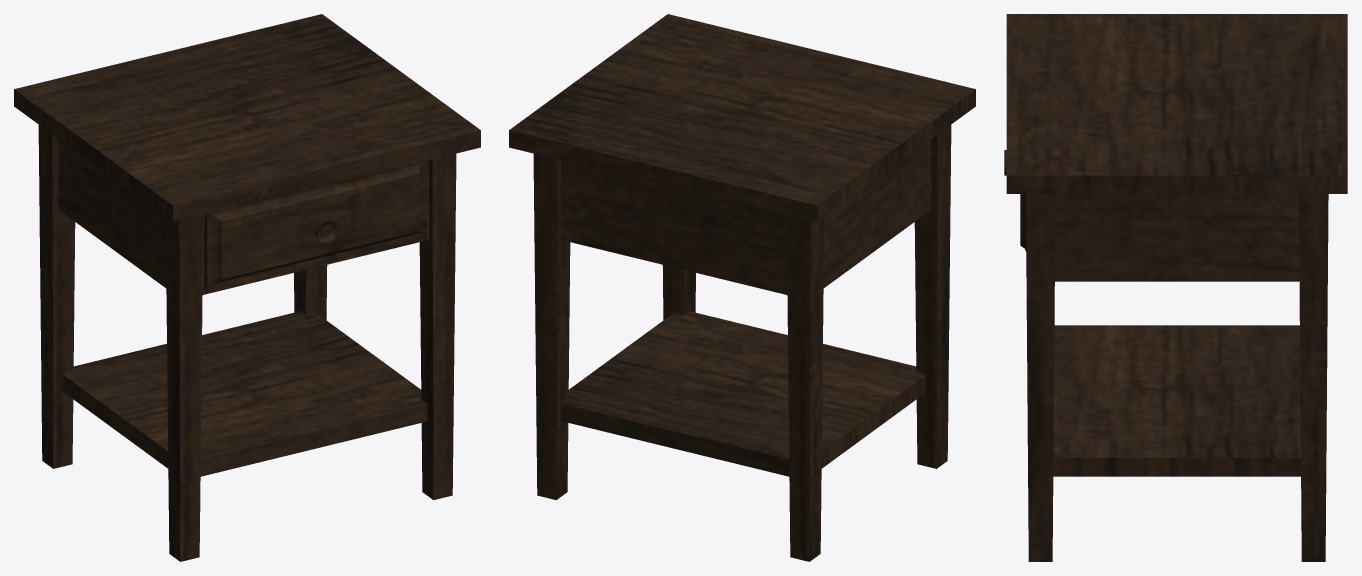
File: bedside_table_1_1.fbx
3 views of the same model, side by side, from view 1: azimuth 30°, elevation 25°; view 2: azimuth 150°, elevation 25°; view 3: azimuth 270°, elevation 25° (orthographic). The views are drawn at different scales.
Visible parts, largest first — view 1: bedside_table_1_1, bedside_table_1_1_drawer; view 2: bedside_table_1_1; view 3: bedside_table_1_1.
Boxes of the visible parts, box(x1,y1,x2,y2) form: bedside_table_1_1: box(14, 14, 480, 561); bedside_table_1_1_drawer: box(204, 160, 427, 291); bedside_table_1_1: box(509, 14, 975, 561); bedside_table_1_1: box(1006, 14, 1347, 561).
Bounding box in the file's own units: 0.56 × 0.5035 × 0.64.
